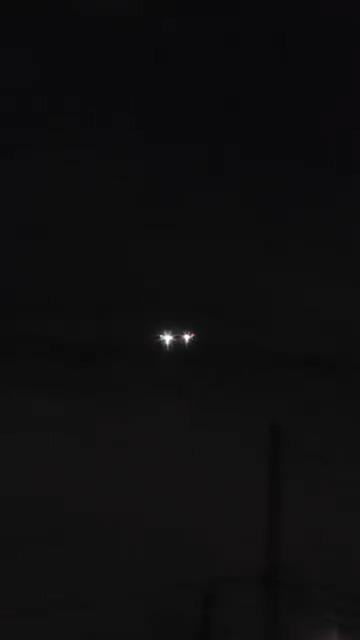Plane: (133, 290, 216, 382)
